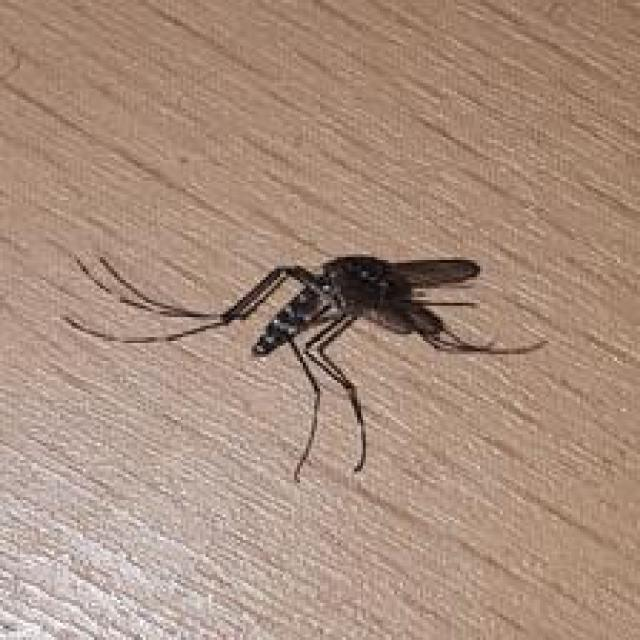Aedes albopictus: (60, 248, 549, 483)
